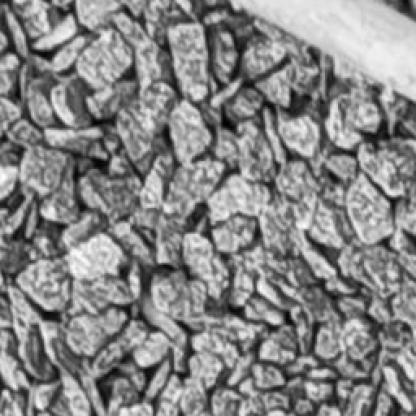PVC: (232, 0, 414, 101)
